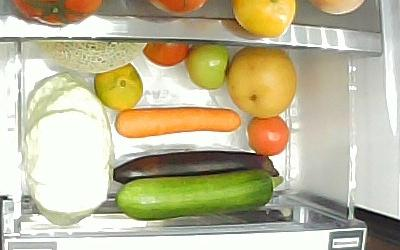cabbage: (26, 72, 110, 226)
carrot: (114, 106, 241, 139)
eggplant: (113, 150, 281, 183)
melon: (36, 40, 147, 75)
pear: (228, 46, 297, 119)
prune: (143, 41, 191, 67)
tangerine: (93, 63, 144, 110)
tomato: (186, 44, 229, 90), (246, 116, 290, 157)
zucchini: (115, 168, 285, 221)
